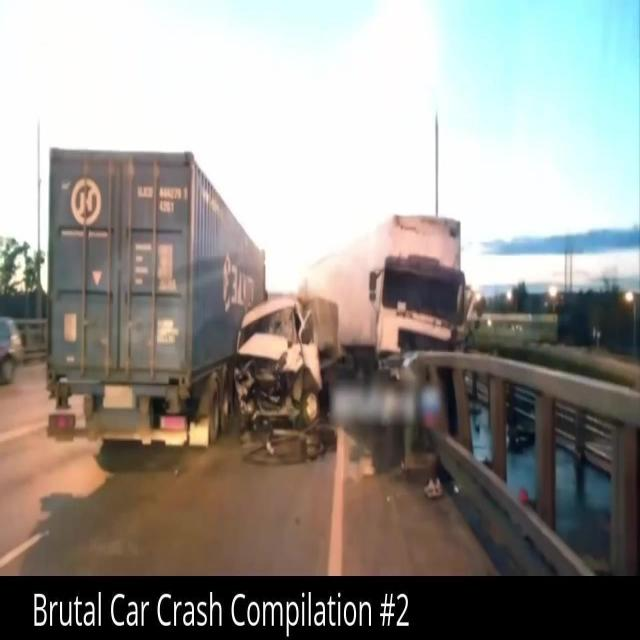accident: (45, 142, 336, 462), (232, 205, 470, 460)
